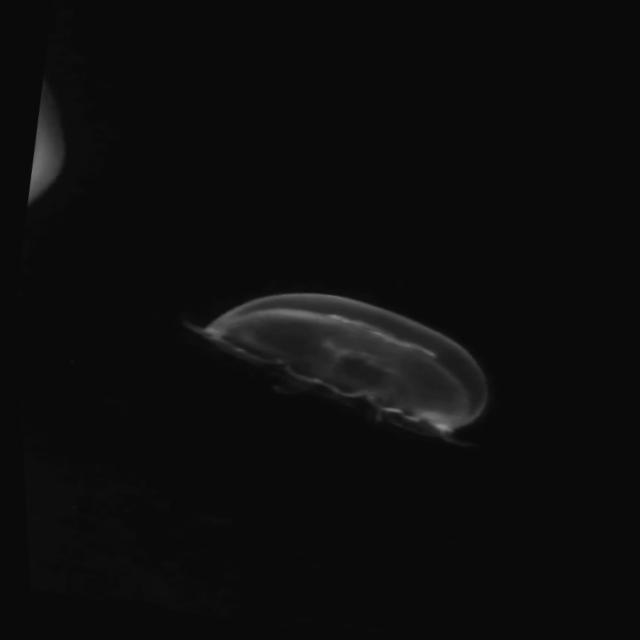Moon-jellyfish: (182, 291, 491, 443)
